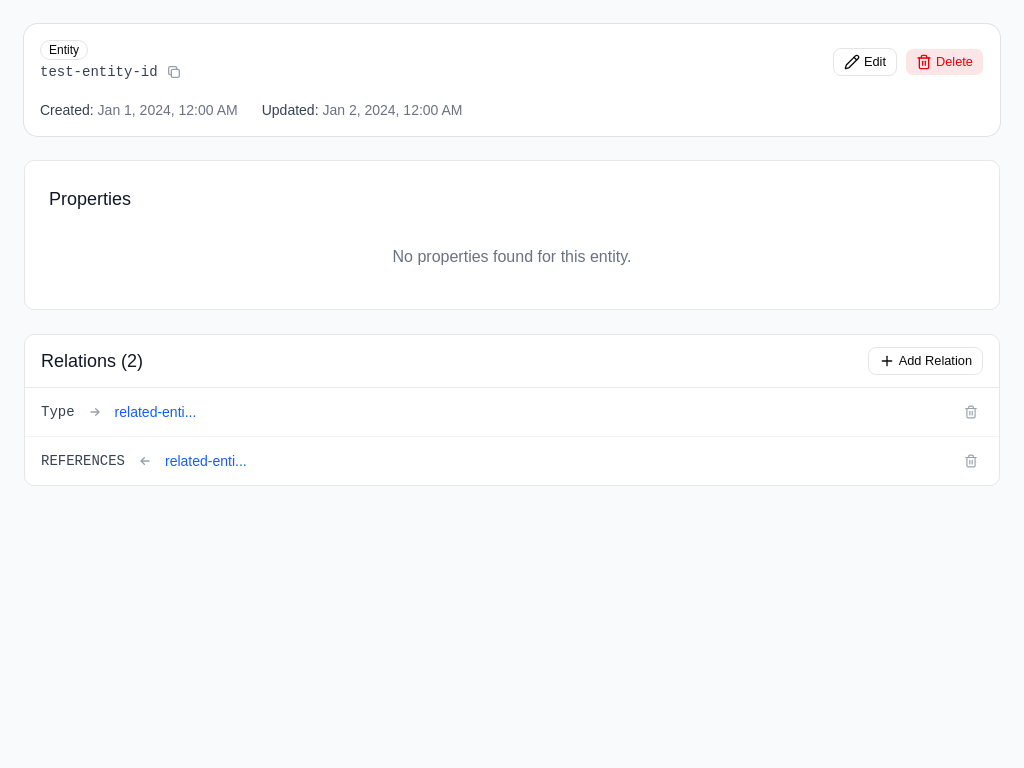
Test: EntityPage › delete entity › dialog shows entity ID when entity has no name
What coordinates should you click on to do the following:
click the button with test id "delete-entity-button"
I would click on:
 (944, 62)
Its box is [905,48,984,76].
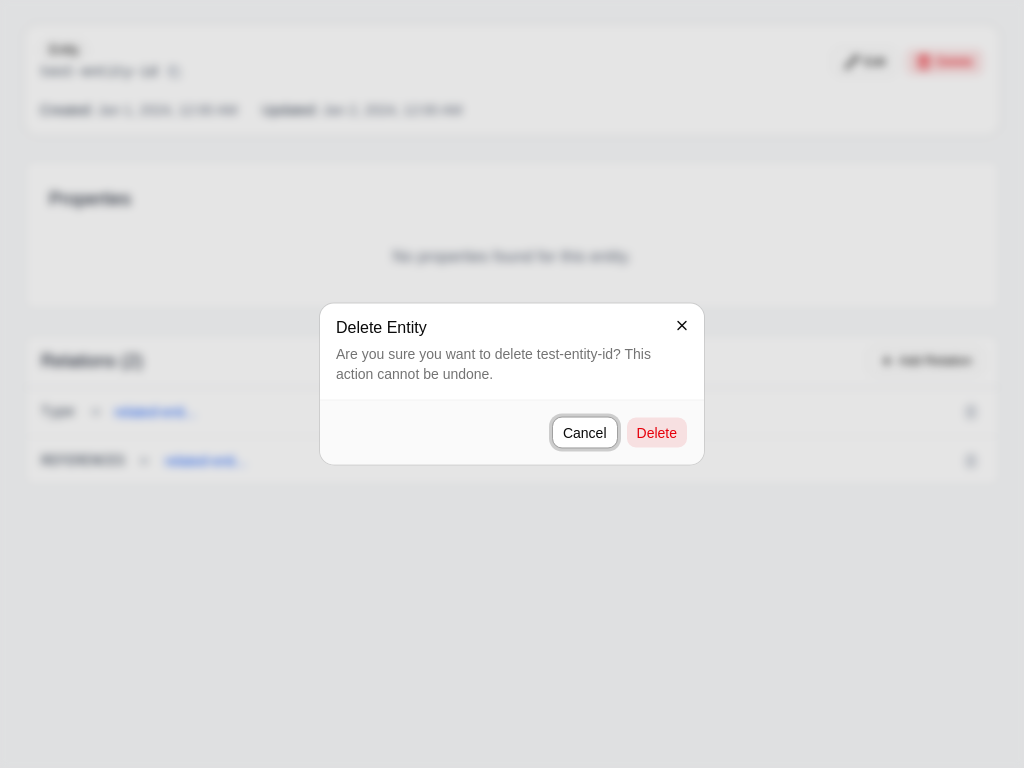
Check: the text "Are you sure you want to delete" is shown, box [336,346,537,362]
